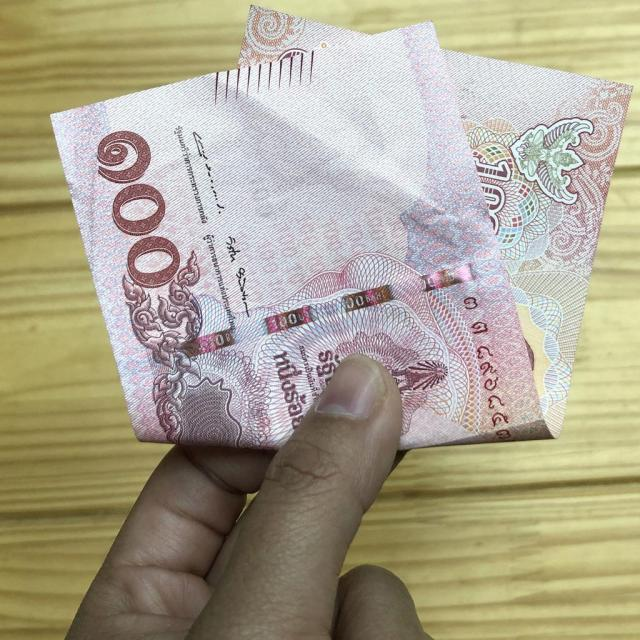THAI100: (50, 7, 628, 456)
